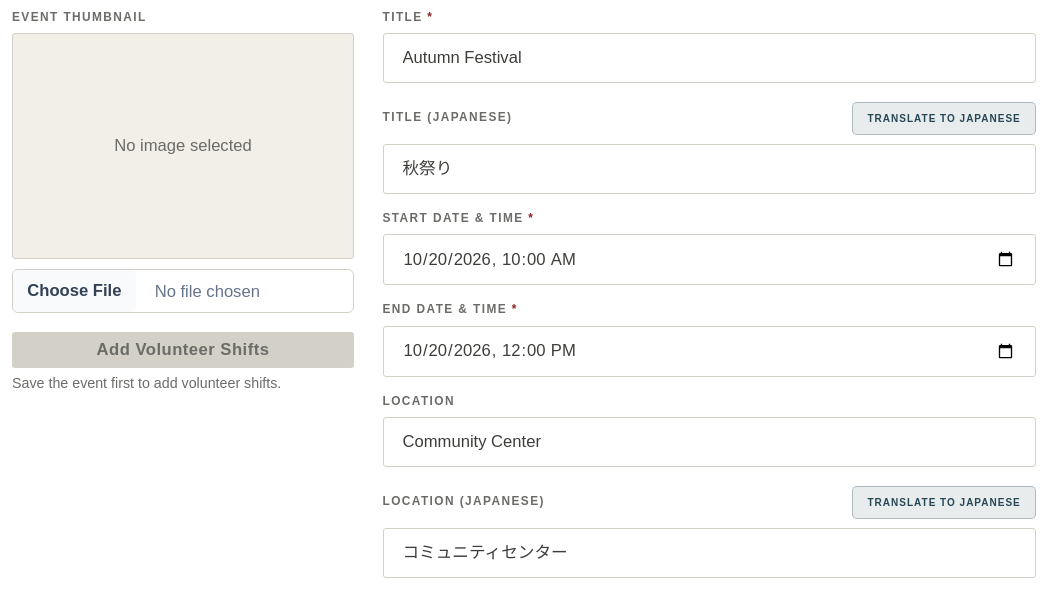
Test: EventForm translation buttons › shows independent notices for manual English edits and redisplays after dismissal
The width and height of the screenshot is (1048, 598).
Expected: the text "⚠ The English text was changed. Please review the Japanese text." is not shown
Type " updated" into the 1st field with placeholder "Event title...".
click(709, 58); type(" updated")  # box [382, 33, 1036, 83]
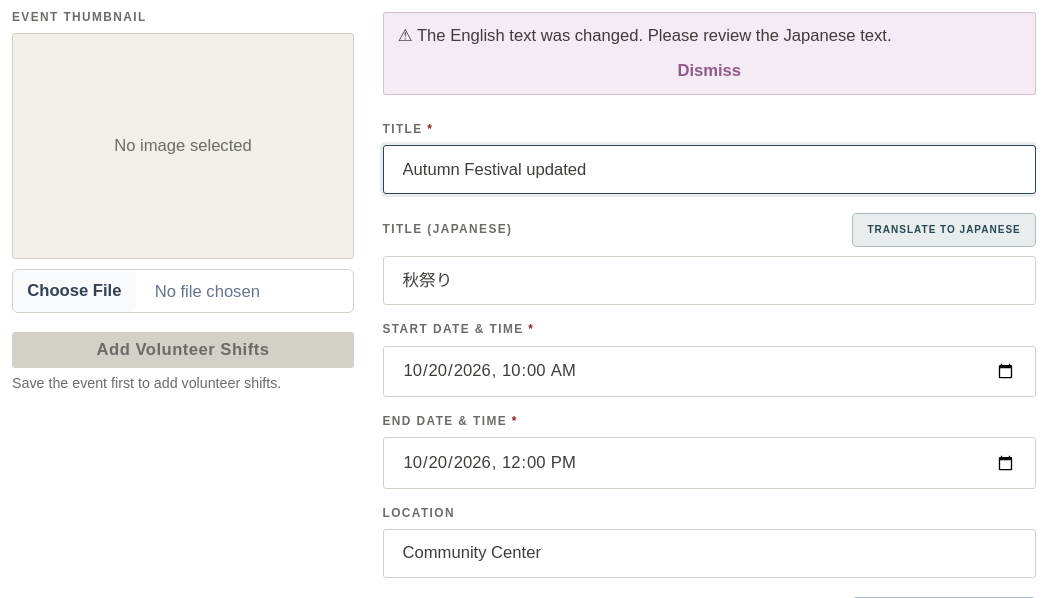
Result: the text "⚠ The English text was changed. Please review the Japanese text." is shown once at [398, 26, 892, 44]
Click the button with aria-label "Dismiss English text change notice".
click(709, 72)  # box [668, 59, 751, 85]
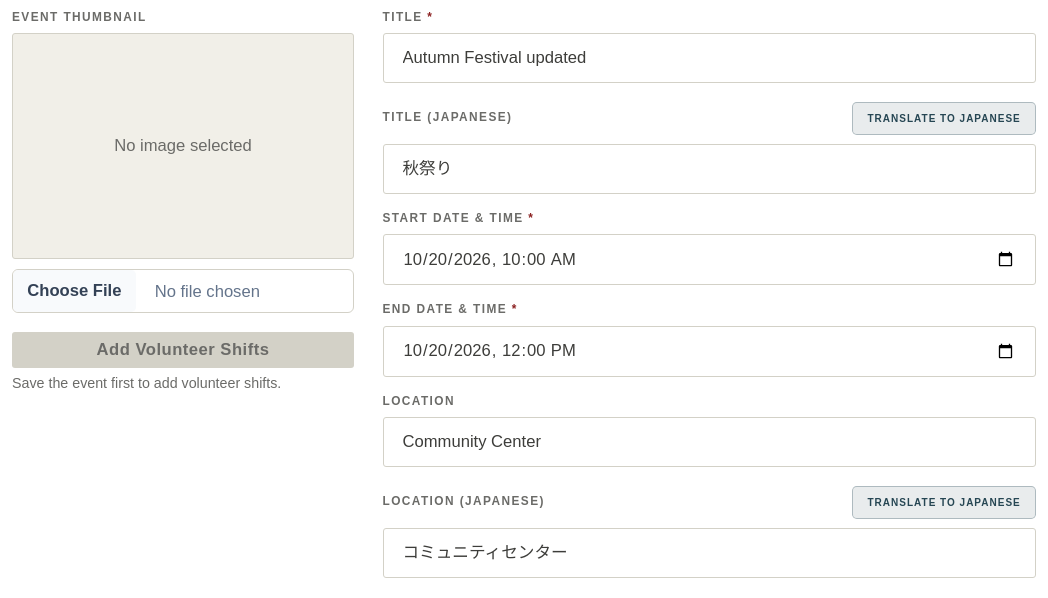
Expected: the field with placeholder "イベントタイトル..." below "Title (Japanese)" holds "秋祭り", [382, 144, 1036, 194]
Result: the text "⚠ The English text was changed. Please review the Japanese text." is gone
Clear the 1st field with placeholder "Event title..." at (709, 58), box [382, 33, 1036, 83]
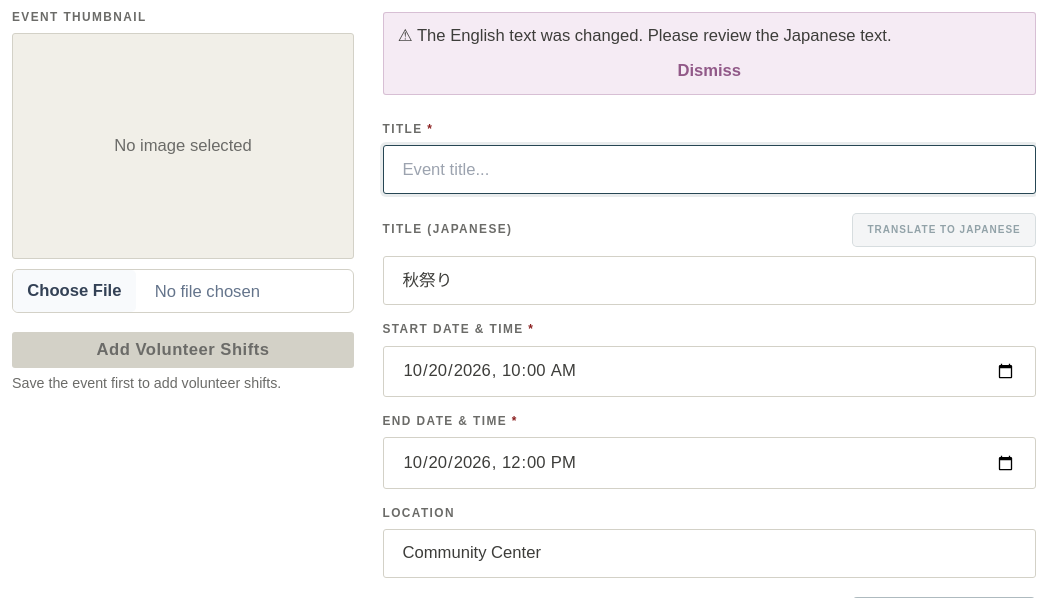
Result: the text "⚠ The English text was changed. Please review the Japanese text." is shown once at [398, 26, 892, 44]
Type " Annex" into the 4th field with placeholder "Event location...".
click(709, 554); type(" Annex")  # box [382, 529, 1036, 578]
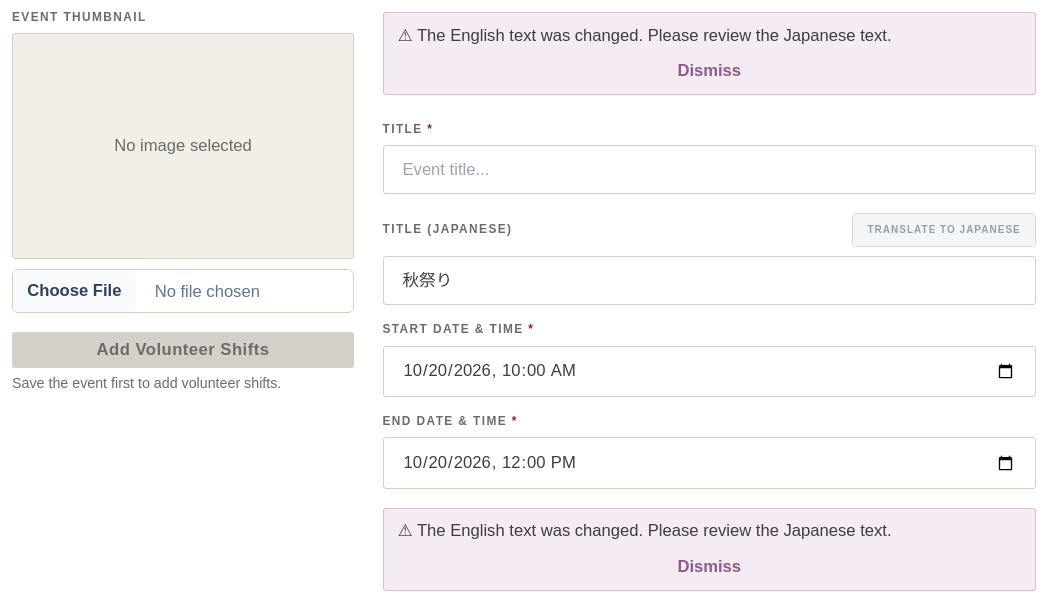
Result: the text "⚠ The English text was changed. Please review the Japanese text." is shown 2 times at [398, 26, 892, 44]; [398, 521, 892, 540]
